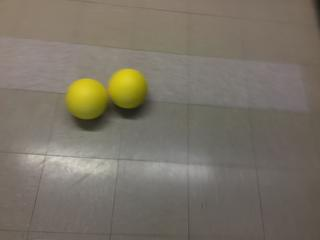power_cell: (64, 77, 109, 120), (108, 67, 149, 110)
